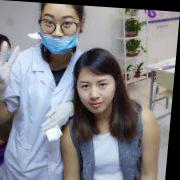NONE: (78, 73, 119, 114)
WRONG: (39, 7, 83, 54)
